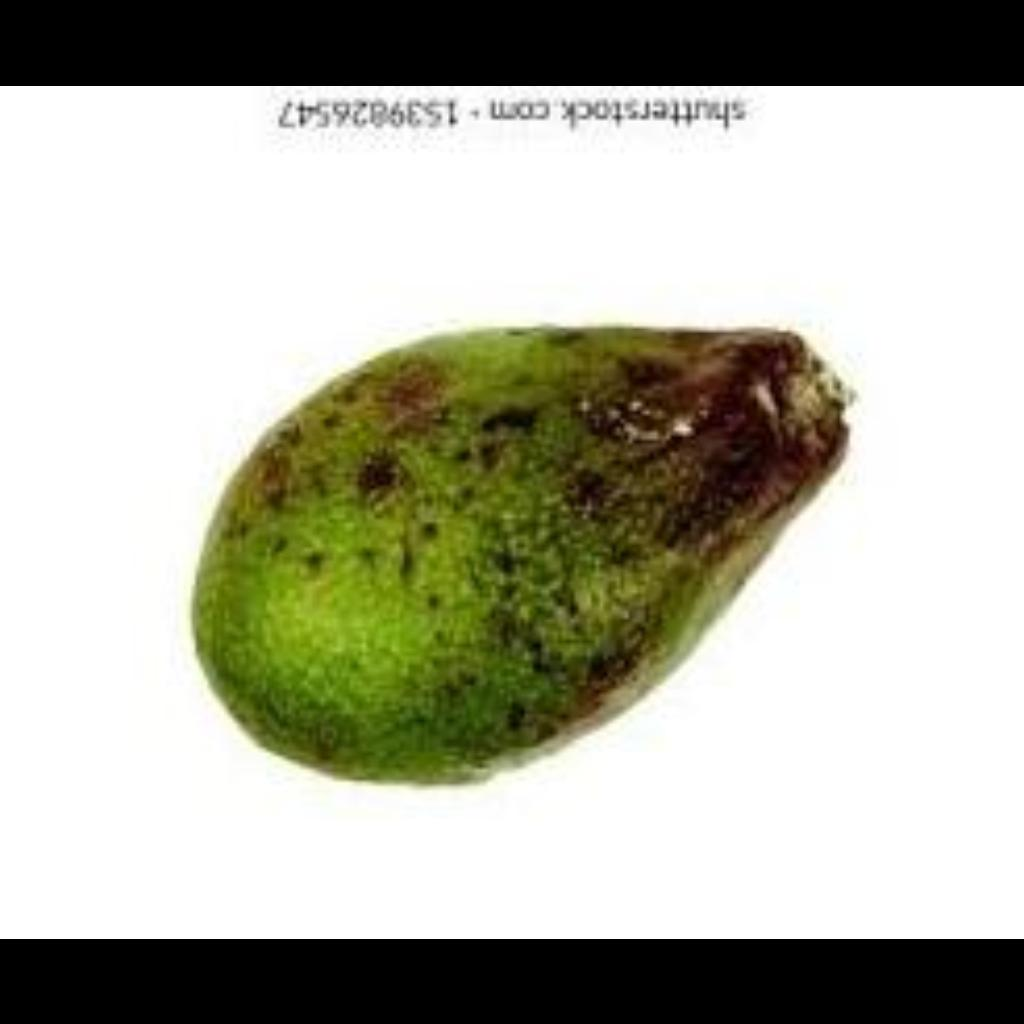antracnosis_fruto: (212, 353, 732, 728)
